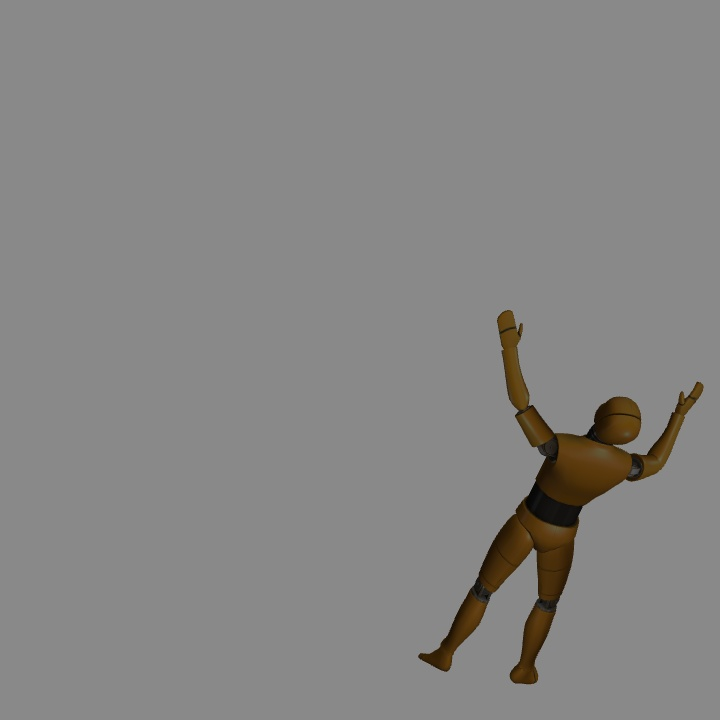victim: (426, 307, 701, 685)
